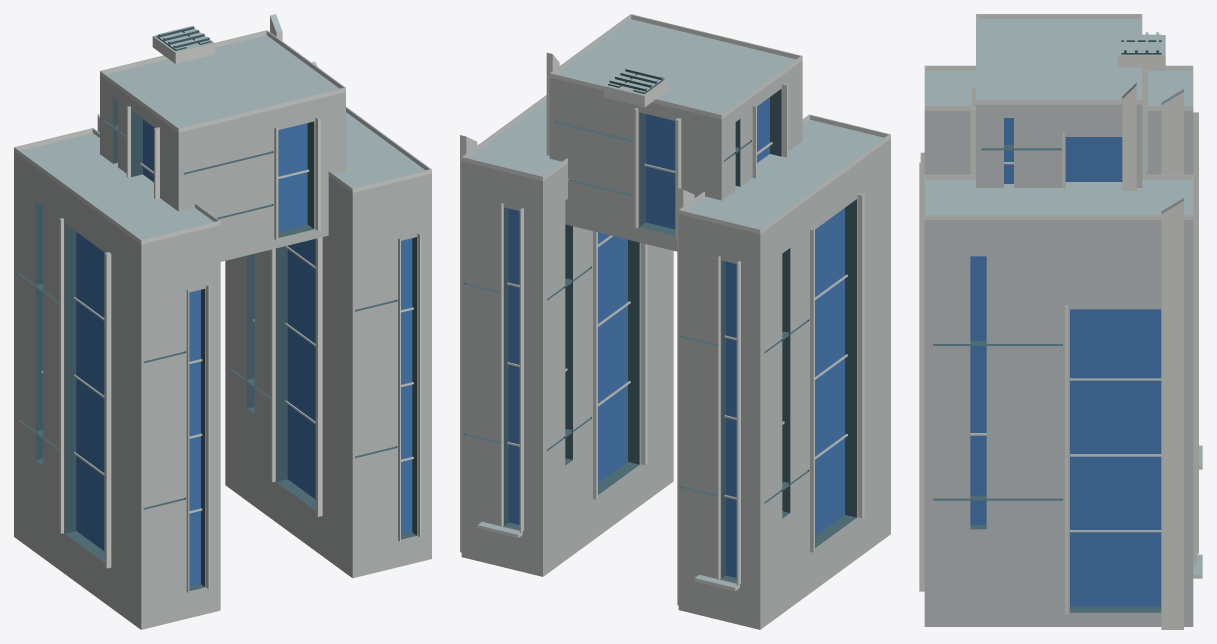
The model's file is 17_Stadtbogen.obj.
3 views of the same model, side by side, from view 1: azimuth 30°, elevation 25°; view 2: azimuth 150°, elevation 25°; view 3: azimuth 270°, elevation 25° (orthographic). The views are drawn at different scales.
Bounding box in the file's own units: 0.6498 × 1 × 0.5016.
